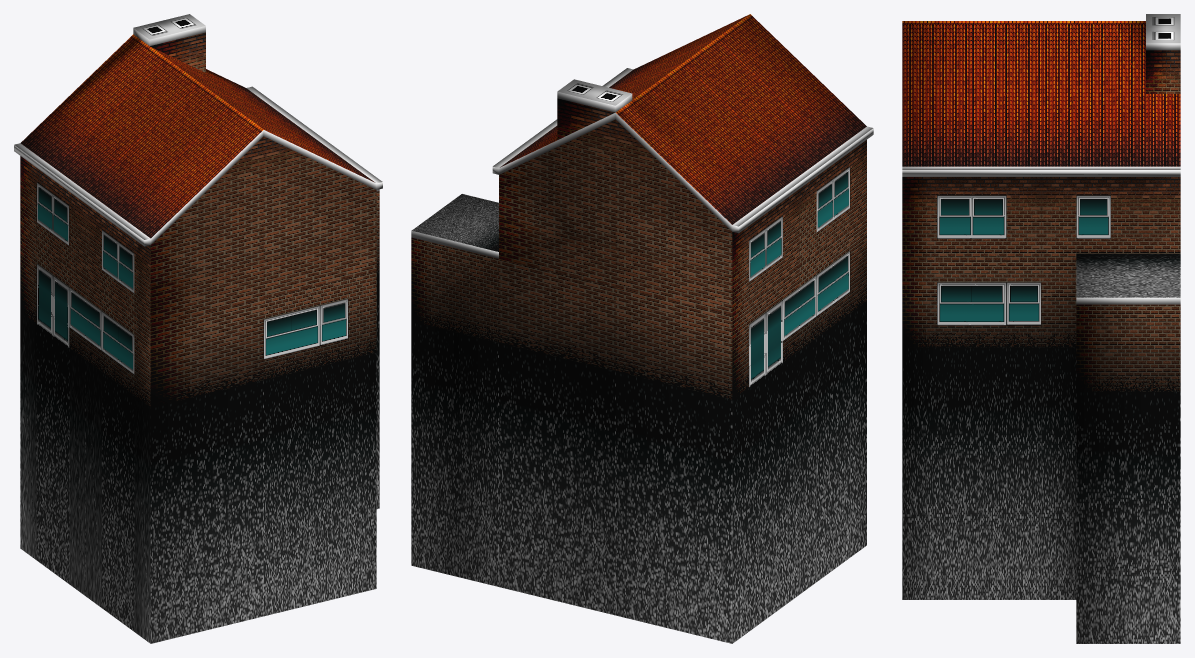
The model's file is doorzon_mod1_1a.fbx.
3 views of the same model, side by side, from view 1: azimuth 30°, elevation 25°; view 2: azimuth 150°, elevation 25°; view 3: azimuth 270°, elevation 25° (orthographic). The views are drawn at different scales.
Visible parts, largest first — view 1: doorzon_mod1_1a; view 2: doorzon_mod1_1a; view 3: doorzon_mod1_1a.
Part boxes in pixels (bbox=[...]): doorzon_mod1_1a: bbox=[14, 14, 382, 643]; doorzon_mod1_1a: bbox=[411, 14, 873, 643]; doorzon_mod1_1a: bbox=[902, 14, 1180, 643].
Size of the model in its own units: 1262 by 1879 by 900.
